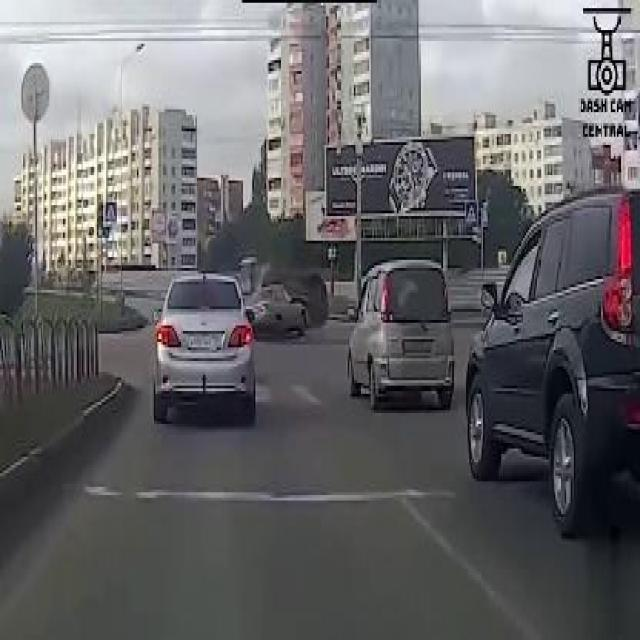accident: (246, 257, 331, 342)
